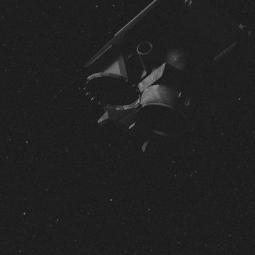cheops: (75, 4, 246, 162)
